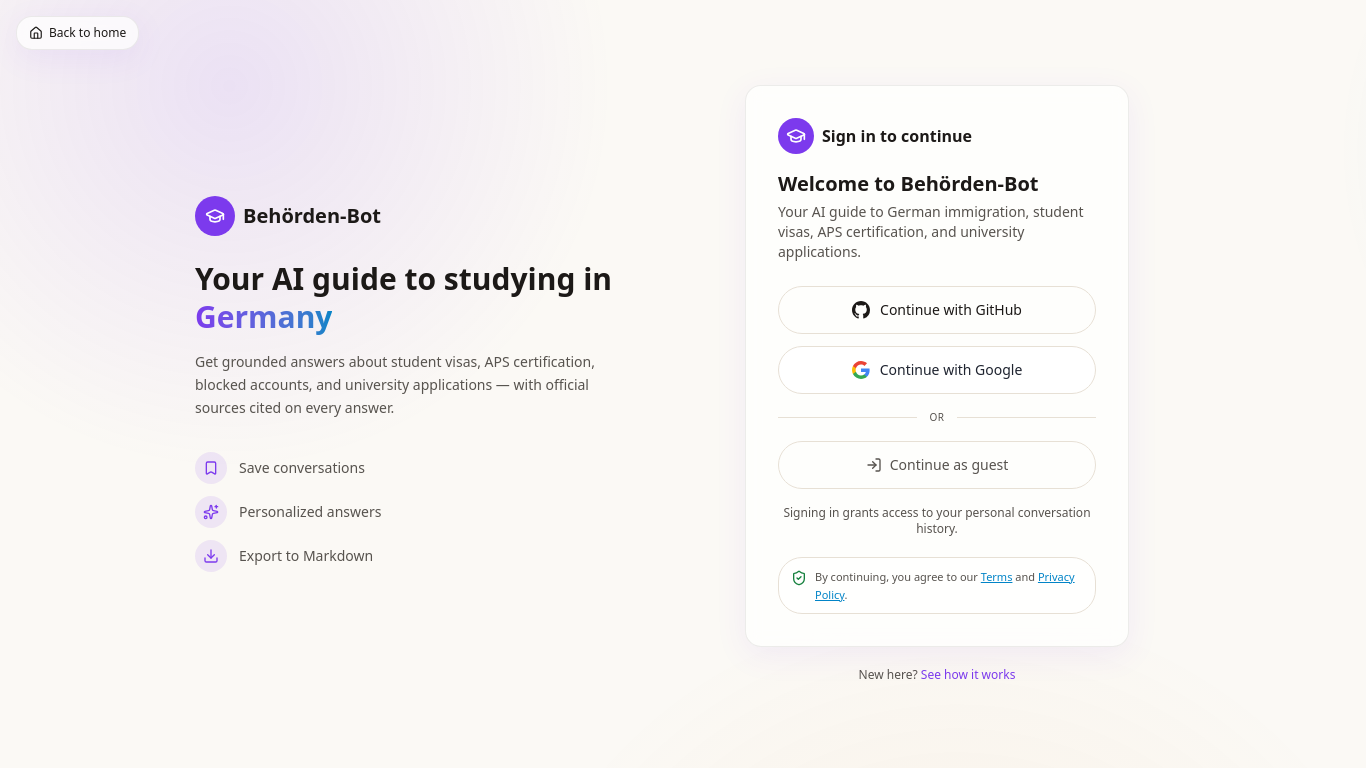
it: LoginContent › shows the server error when the guest request fails
This screenshot has width=1366, height=768.
Step 1. Click the button "Continue as guest" → (937, 465), box [778,441,1096,489]
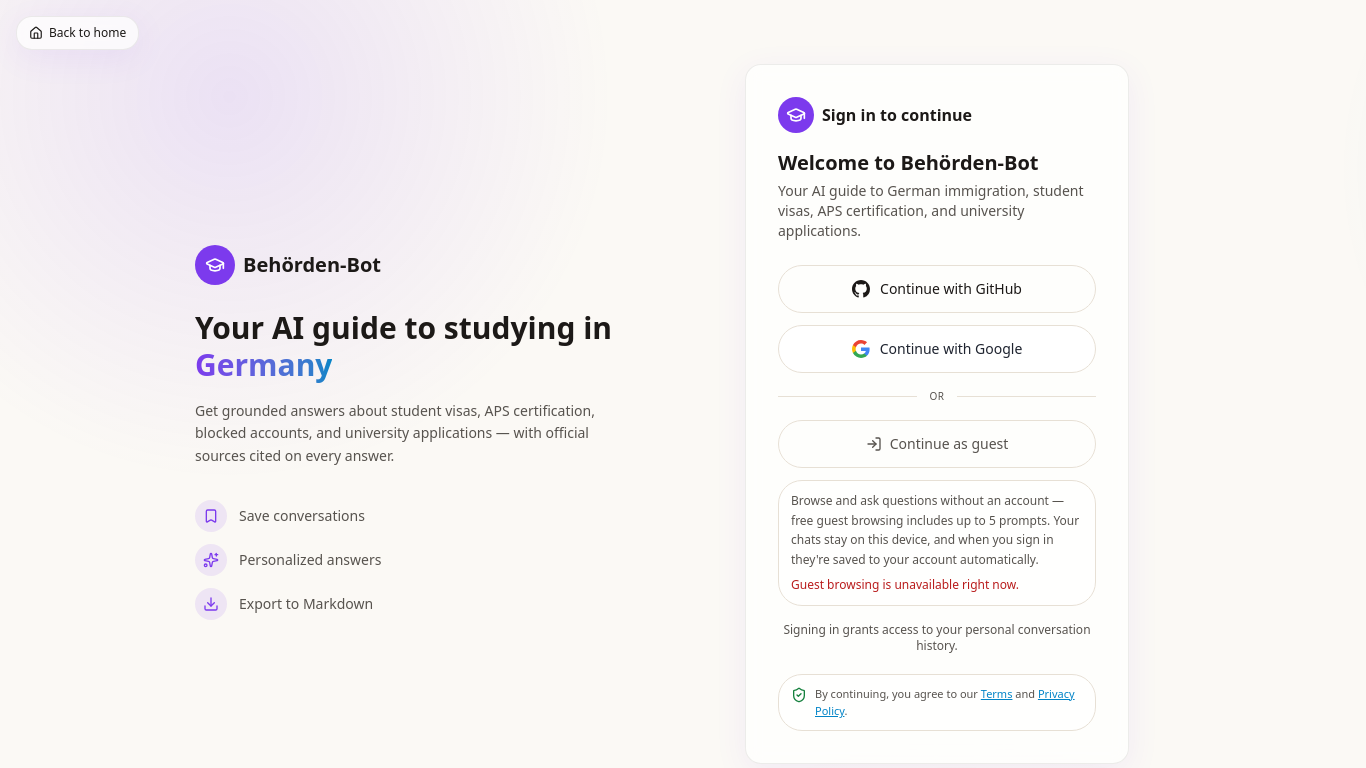
expect the text "Guest browsing is unavailable right now." is shown: met, box [791,576,1019,593]
